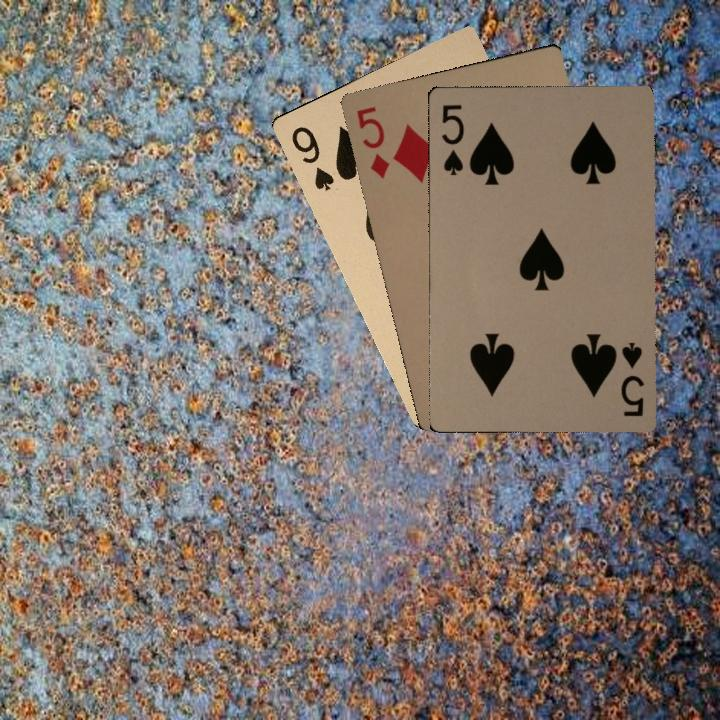5d: (352, 102, 393, 181)
5s: (617, 338, 647, 419), (438, 100, 467, 177)
9s: (287, 122, 337, 194)
